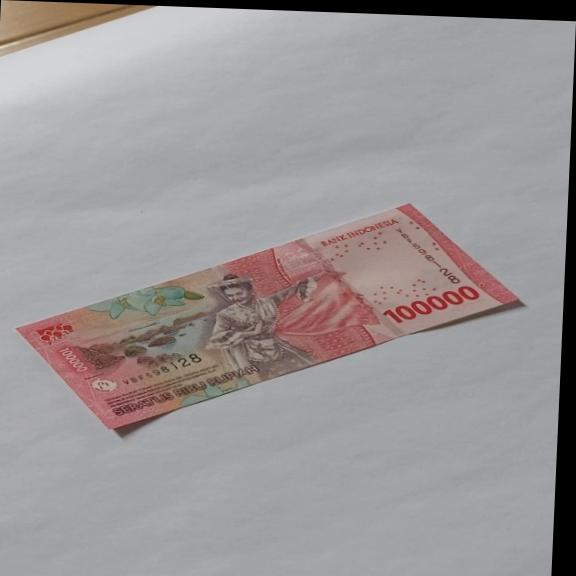Kertas: (10, 189, 529, 446)
